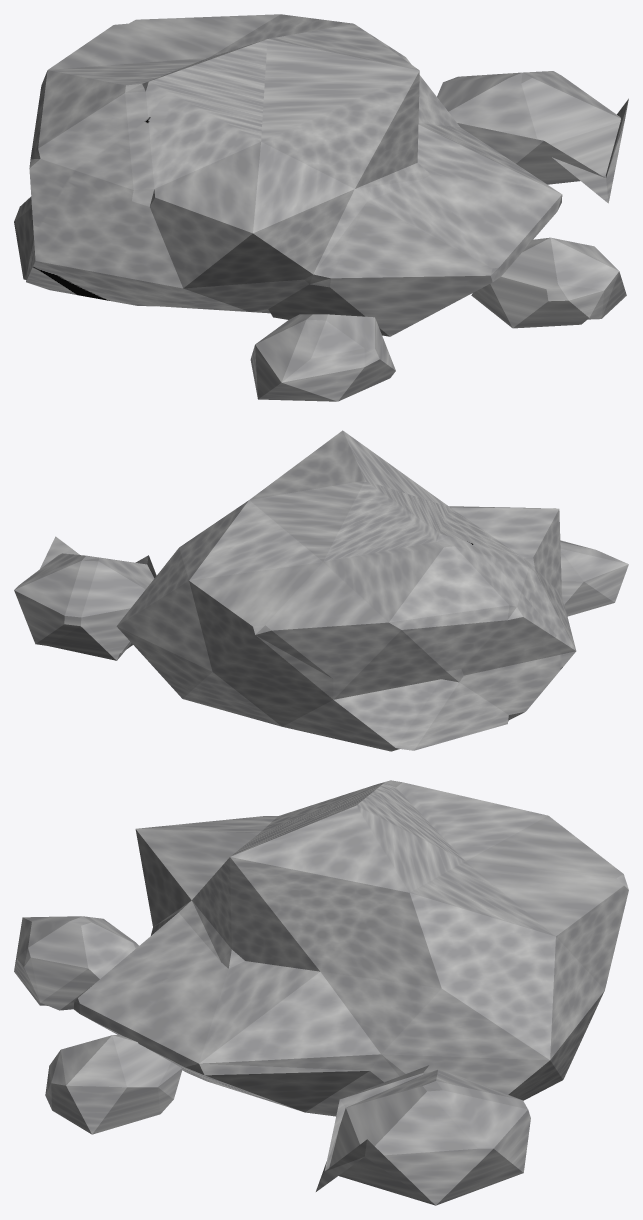
File: 바위무리_01.fbx
3 renders of one model, top to bottom at view 1: azimuth 30°, elevation 25°; view 2: azimuth 150°, elevation 25°; view 3: azimuth 270°, elevation 25°, orthographic. The views are drawn at different scales.
Visible parts, largest first — view 1: 바위무리_01; view 2: 바위무리_01; view 3: 바위무리_01.
Boxes of the visible parts, bbox=[...] form: 바위무리_01: bbox=[14, 14, 628, 401]; 바위무리_01: bbox=[14, 430, 628, 751]; 바위무리_01: bbox=[14, 780, 628, 1205].
Size of the model in its own units: 3228 by 1140 by 2769.
Materials: 1 (1 with a texture image).
